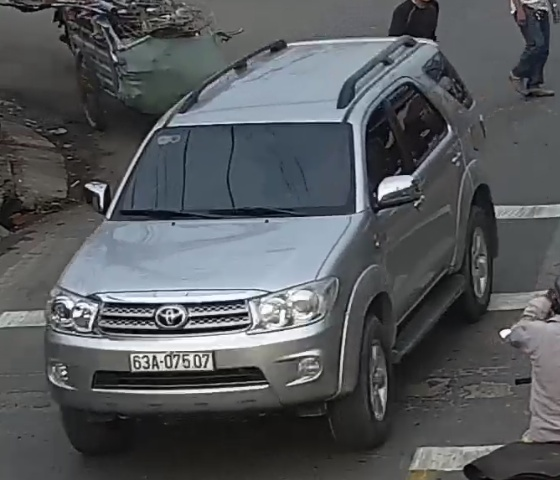vehicle plate: (125, 350, 233, 374)
